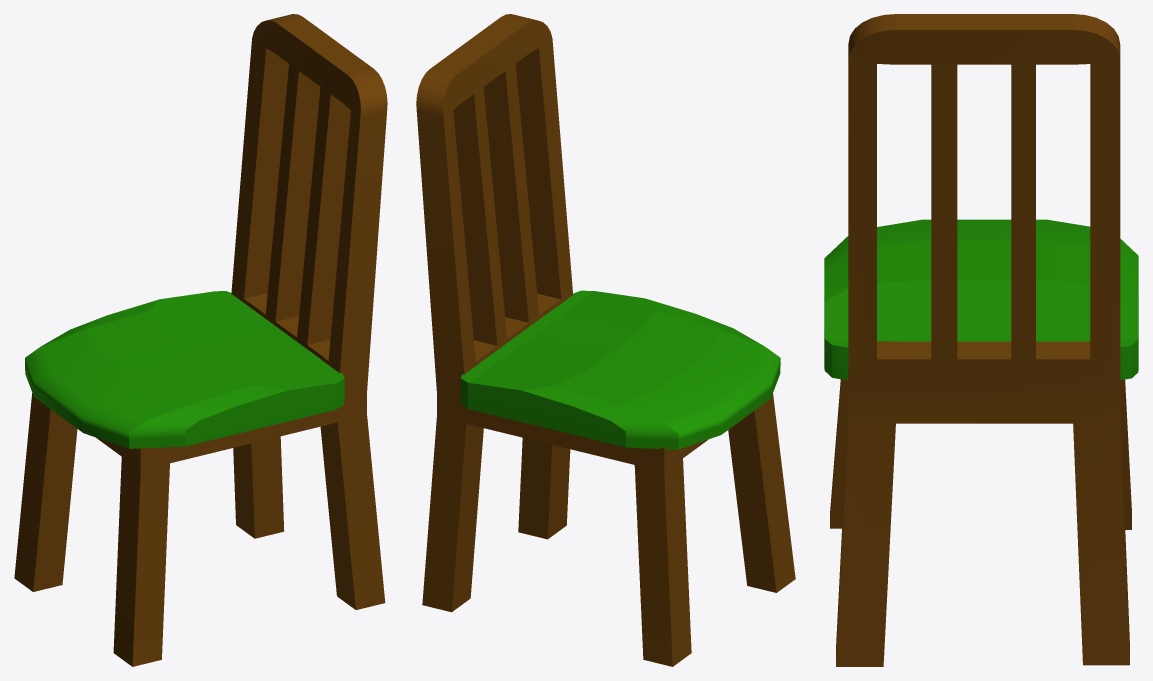
File: Kitchen_Chair.fbx
3 views of the same model, side by side, from view 1: azimuth 30°, elevation 25°; view 2: azimuth 150°, elevation 25°; view 3: azimuth 270°, elevation 25° (orthographic). The views are drawn at different scales.
Visible parts, largest first — view 1: Cube; view 2: Cube; view 3: Cube.
Boxes of the visible parts, bbox=[...] form: Cube: bbox=[14, 14, 387, 666]; Cube: bbox=[416, 14, 795, 666]; Cube: bbox=[824, 14, 1138, 666].
Bounding box in the file's own units: 139 × 243 × 107.
